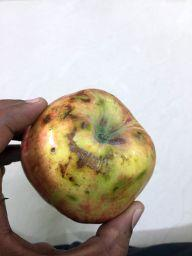Apple Semirotten: (19, 91, 162, 223)
